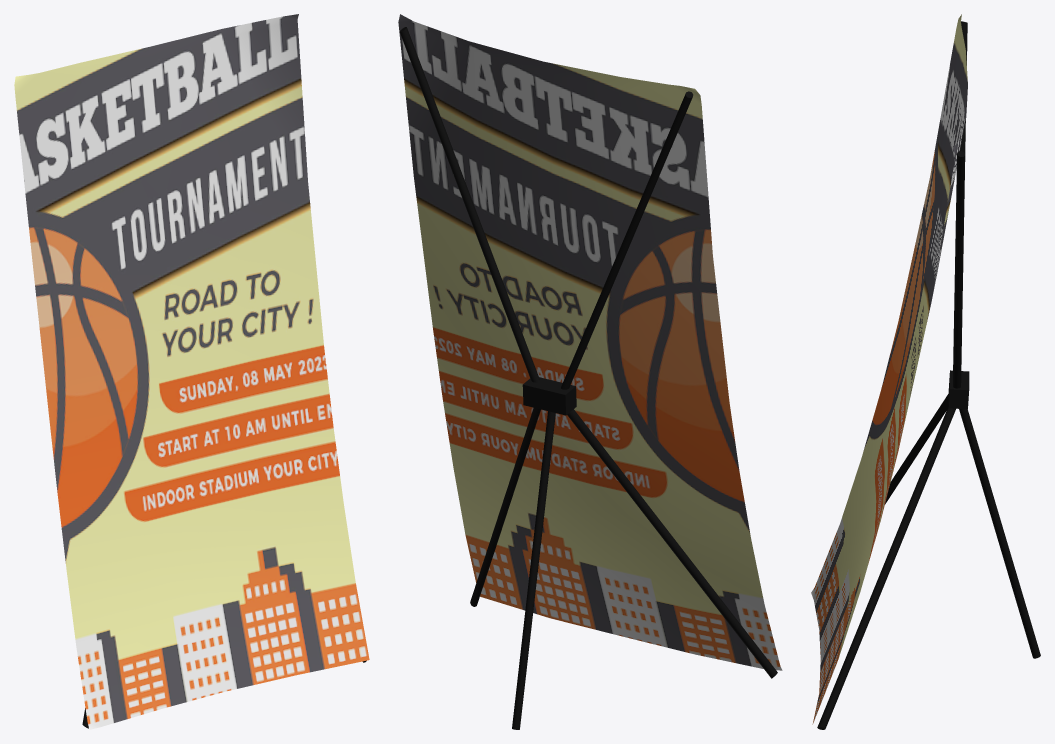
Rendered from 0_Other_0016_1.fbx.
The picture shows the model from 3 angles, left to right: view 1: azimuth 30°, elevation 25°; view 2: azimuth 150°, elevation 25°; view 3: azimuth 270°, elevation 25°; orthographic projection. The views are drawn at different scales.
Parts seen in each view (by area): view 1: Other_0016_1; view 2: Other_0016_1; view 3: Other_0016_1.
Boxes of the visible parts, x1,y1,x2,y2 form: Other_0016_1: (14,14,369,729); Other_0016_1: (398,14,782,729); Other_0016_1: (811,14,1040,729).
Size of the model in its own units: 123 by 248 by 88.27.
